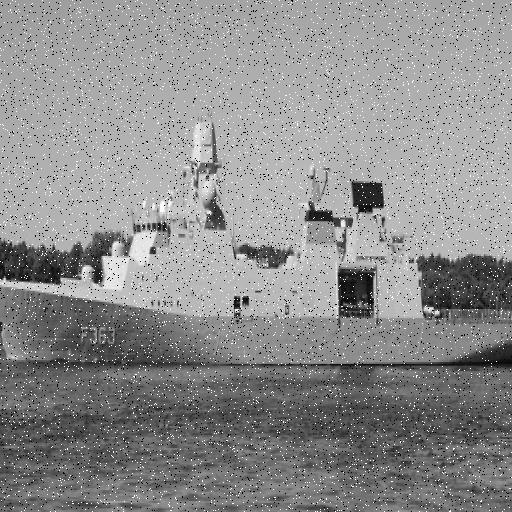Fragata: (1, 107, 512, 380)
